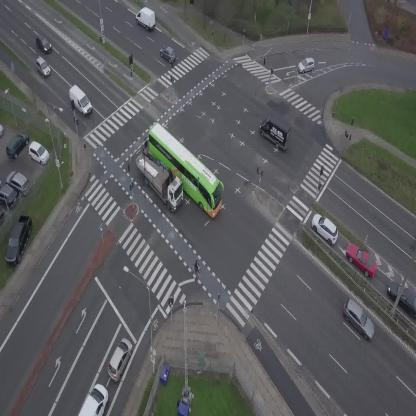bicycle: (190, 259, 205, 280)
bus: (134, 120, 235, 220)
car: (336, 296, 382, 342), (341, 238, 383, 282), (103, 336, 137, 384), (306, 209, 344, 247), (78, 381, 115, 416), (31, 55, 53, 80), (157, 43, 180, 66), (32, 33, 54, 56), (296, 56, 316, 74)
lorry: (128, 144, 193, 213), (254, 111, 298, 152), (65, 83, 95, 117), (132, 4, 161, 33)
